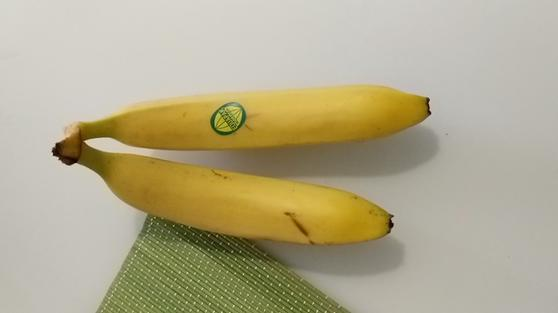banana: (46, 141, 400, 252), (65, 83, 446, 147)
